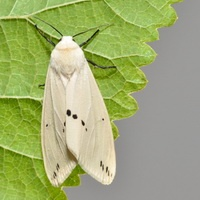insect: (41, 21, 115, 186)
